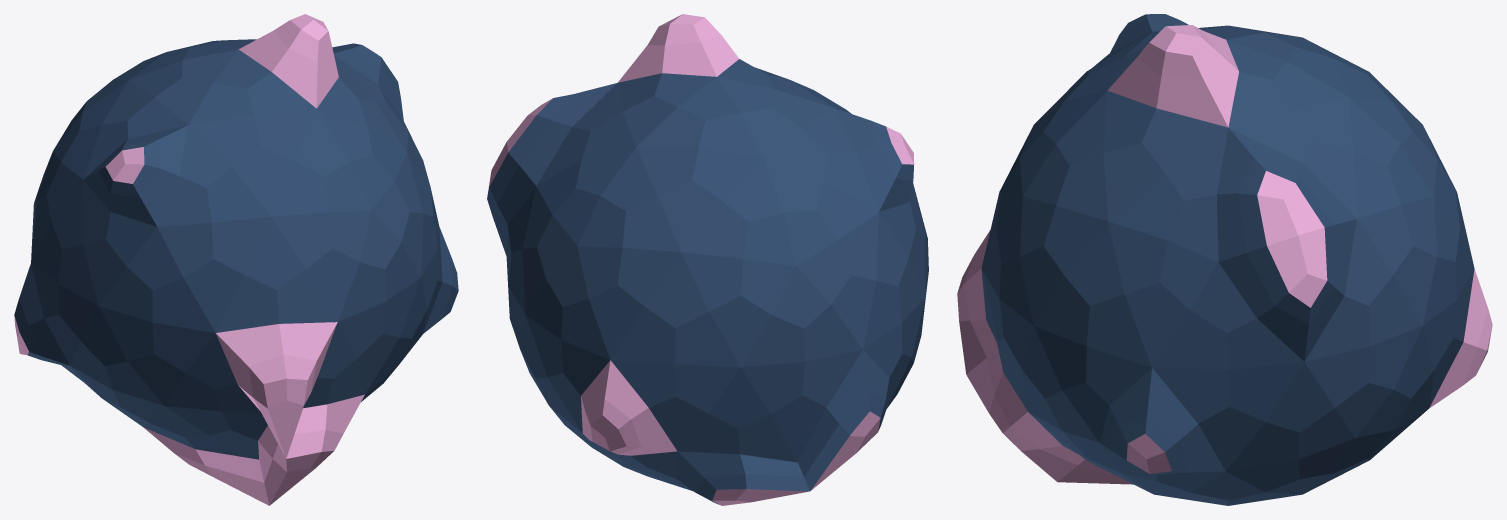
Rendered from Planet3Evo3.glb.
3 renders of one model, left to right at view 1: azimuth 30°, elevation 25°; view 2: azimuth 150°, elevation 25°; view 3: azimuth 270°, elevation 25°, orthographic. The views are drawn at different scales.
Visible parts, largest first — view 1: Icosphere.070; view 2: Icosphere.070; view 3: Icosphere.070.
Boxes of the visible parts, bbox=[...] form: Icosphere.070: bbox=[14, 14, 458, 505]; Icosphere.070: bbox=[487, 14, 928, 505]; Icosphere.070: bbox=[957, 14, 1492, 505].
Size of the model in its own units: 1.85 by 2 by 1.93.
